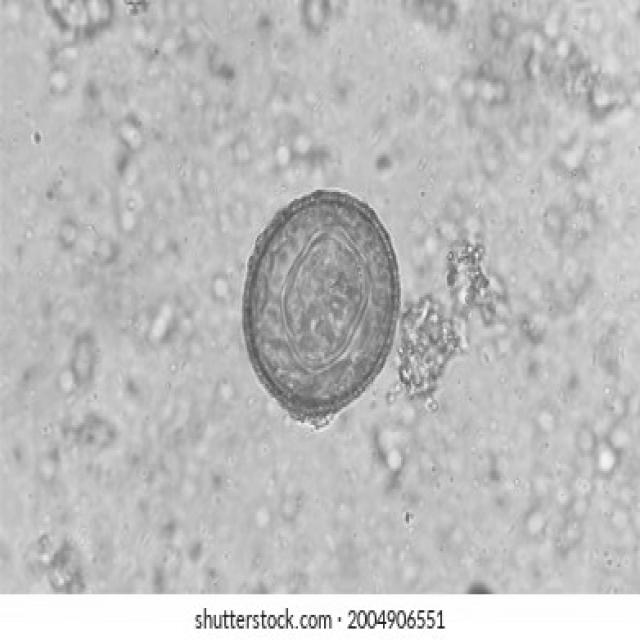Ascaris Lumbricoides: (239, 190, 403, 420)
